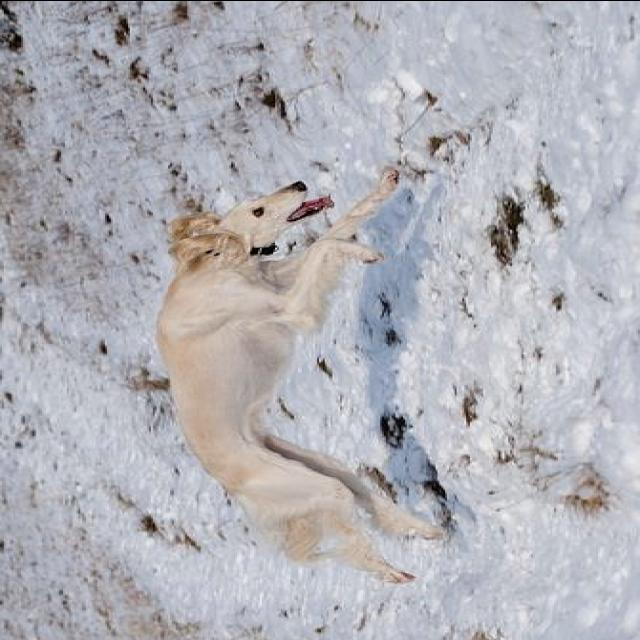saluki: (138, 166, 454, 580)
